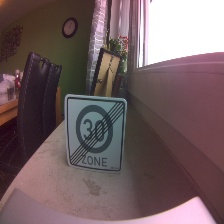dreisiger_zone_ende: (63, 94, 126, 174)
